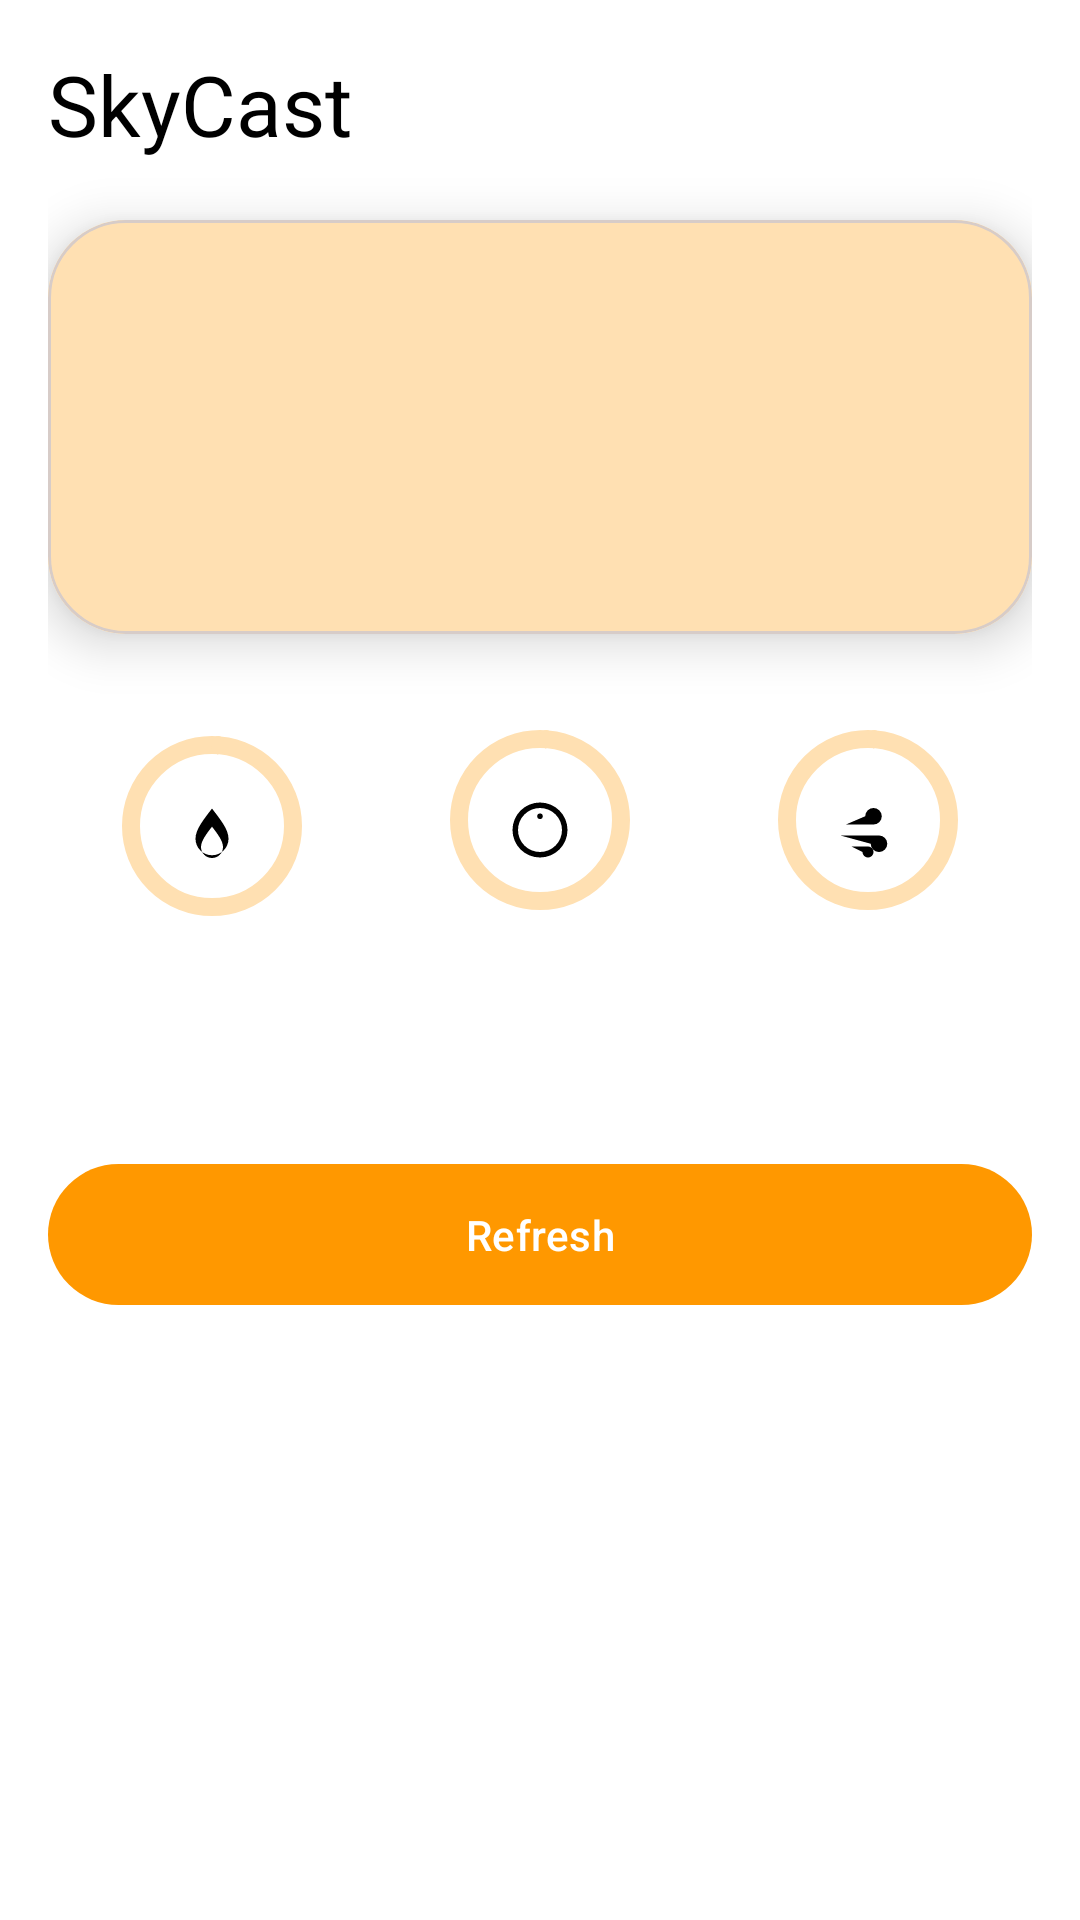

Icon bounding boxes for this 1080 x 1920 phone screenshot, format (x1, y1, x2, y2):
Humidity: (195, 809, 229, 858)
Pressure: (512, 802, 568, 858)
Wind: (841, 808, 888, 858)
